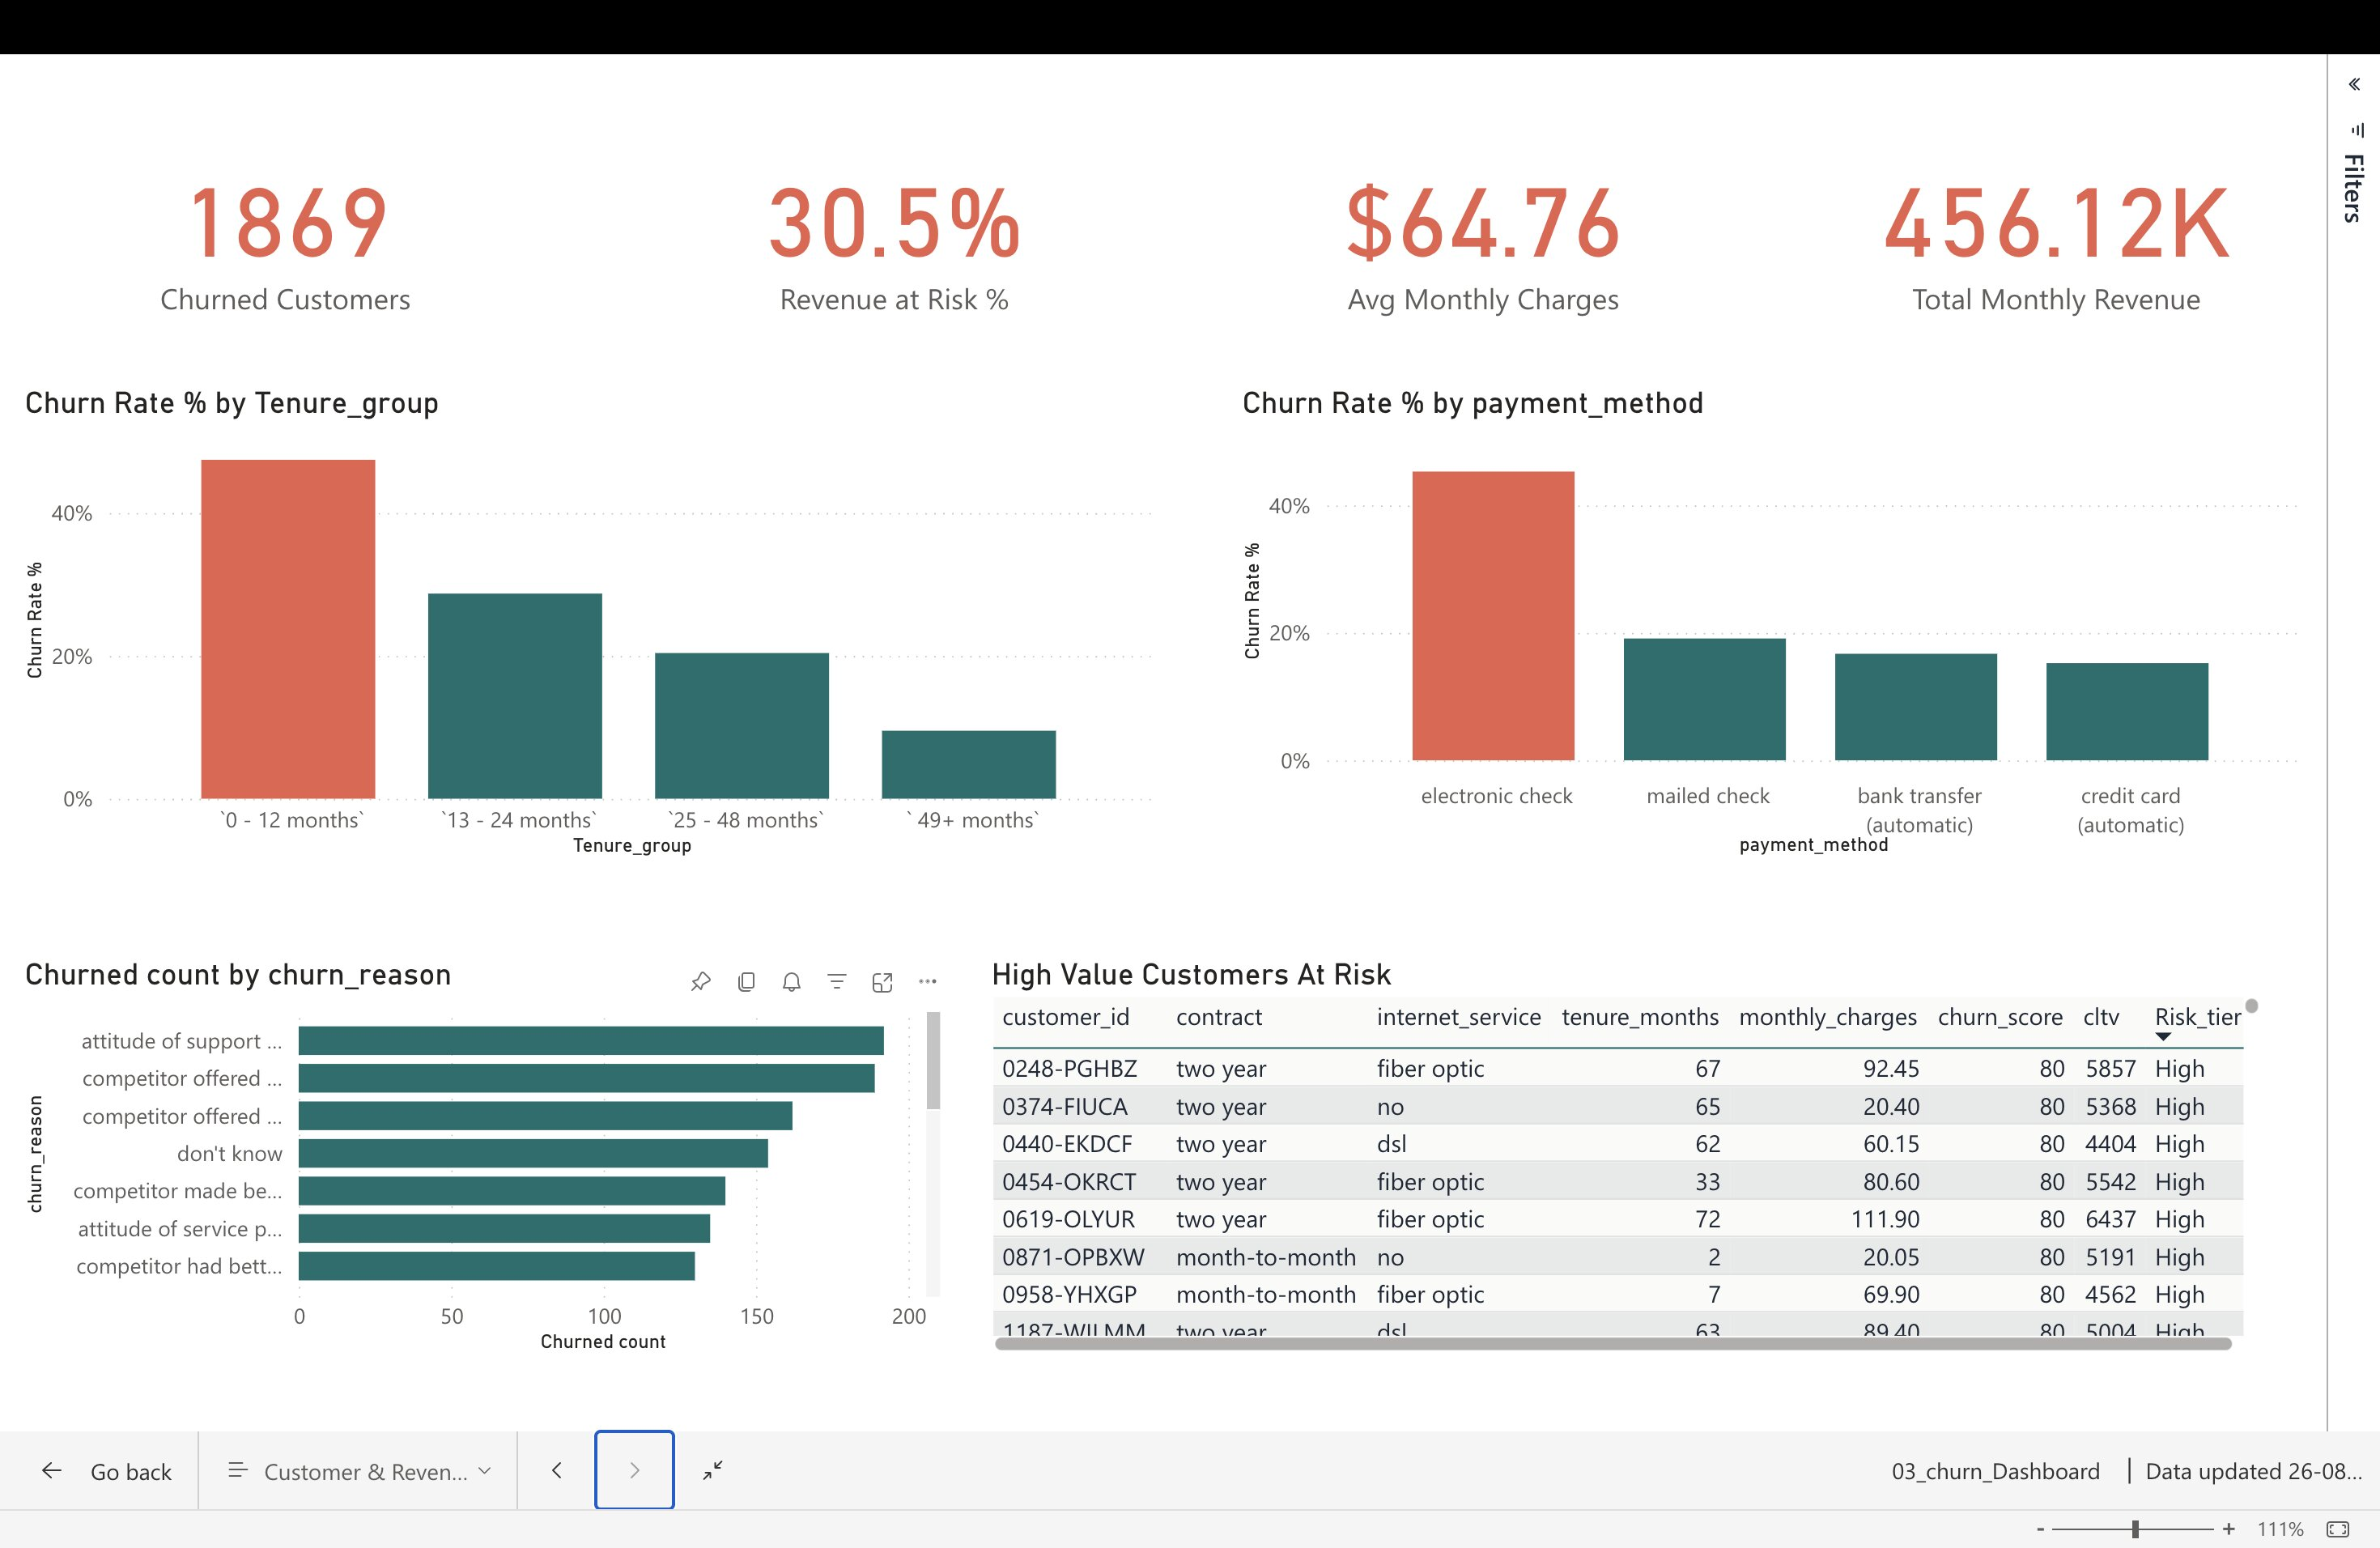

The dashboard page shown, as its layout file describes it:
{"tool":"powerbi","page":{"name":"Customer & Revenue Analysis","canvas":[1280,720],"ordinal":1},"visuals":[{"type":"clusteredColumnChart","fields":{"Category":["stg_telco_clean.Tenure_group"],"Y":["stg_telco_clean.Churn Rate %"]},"box":[0,178.1,640,265.4],"z":0},{"type":"card","fields":{"Values":["stg_telco_clean.Churned Customers"]},"box":[0,0,300.7,178.1],"z":1000},{"type":"card","fields":{"Values":["stg_telco_clean.Revenue at Risk %"]},"box":[339.3,0,300.7,178.1],"z":2000},{"type":"card","fields":{"Values":["stg_telco_clean.Avg Monthly Charges"]},"box":[678.6,0,280.5,178.1],"z":3000},{"type":"card","fields":{"Values":["stg_telco_clean.Total Monthly Revenue"]},"box":[997.8,0,280.5,178.1],"z":4000},{"type":"clusteredBarChart","fields":{"Category":["stg_telco_clean.churn_reason"],"Y":["stg_telco_clean.Churned count"]},"box":[0,497.2,520.7,223.4],"z":5000},{"type":"tableEx","title":"High Value Customers At Risk","fields":{"Values":["stg_telco_clean.customer_id","stg_telco_clean.contract","stg_telco_clean.internet_service","stg_telco_clean.tenure_months","stg_telco_clean.monthly_charges","stg_telco_clean.churn_score","stg_telco_clean.cltv","stg_telco_clean.Risk_tier"]},"box":[539.2,497.2,717.3,223.4],"z":6000},{"type":"clusteredColumnChart","fields":{"Category":["stg_telco_clean.payment_method"],"Y":["stg_telco_clean.Churn Rate %"]},"box":[679,178,600,265],"z":7000}]}

Visuals, with their boxes on the page's 1280x720 design canvas (x1, y1, x2, y2). These are canvas units, not pixel positions in the 2380x1548 screenshot, which may show the page scaled, cropped or inside an application window:
clusteredColumnChart - stg_telco_clean.Tenure_group x stg_telco_clean.Churn Rate %: (0,178,640,444)
card - stg_telco_clean.Churned Customers: (0,0,301,178)
card - stg_telco_clean.Revenue at Risk %: (339,0,640,178)
card - stg_telco_clean.Avg Monthly Charges: (679,0,959,178)
card - stg_telco_clean.Total Monthly Revenue: (998,0,1278,178)
clusteredBarChart - stg_telco_clean.churn_reason x stg_telco_clean.Churned count: (0,497,521,721)
"High Value Customers At Risk" tableEx: (539,497,1256,721)
clusteredColumnChart - stg_telco_clean.payment_method x stg_telco_clean.Churn Rate %: (679,178,1279,443)
